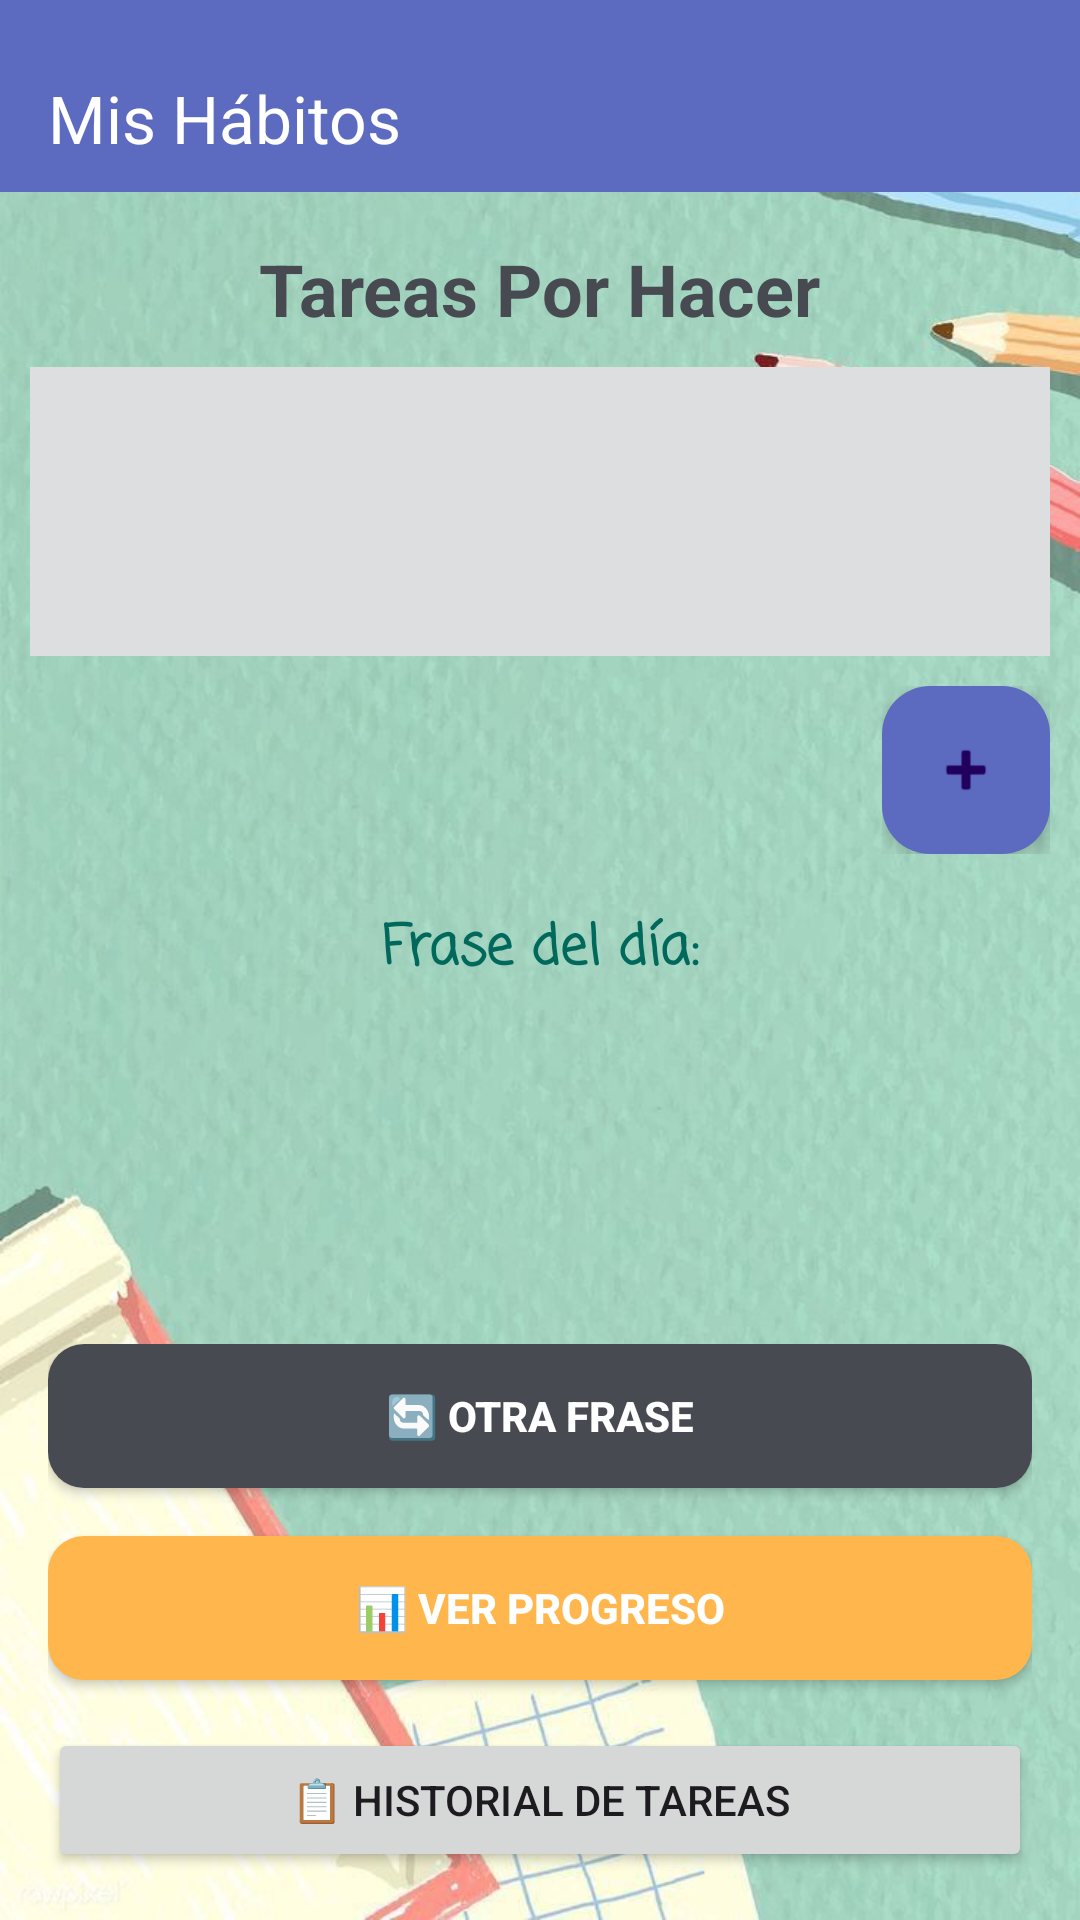

Point at icon controls on the screen. Image size 1080*1920, points as (x,y).
Agregar Tarea: (966,770)
